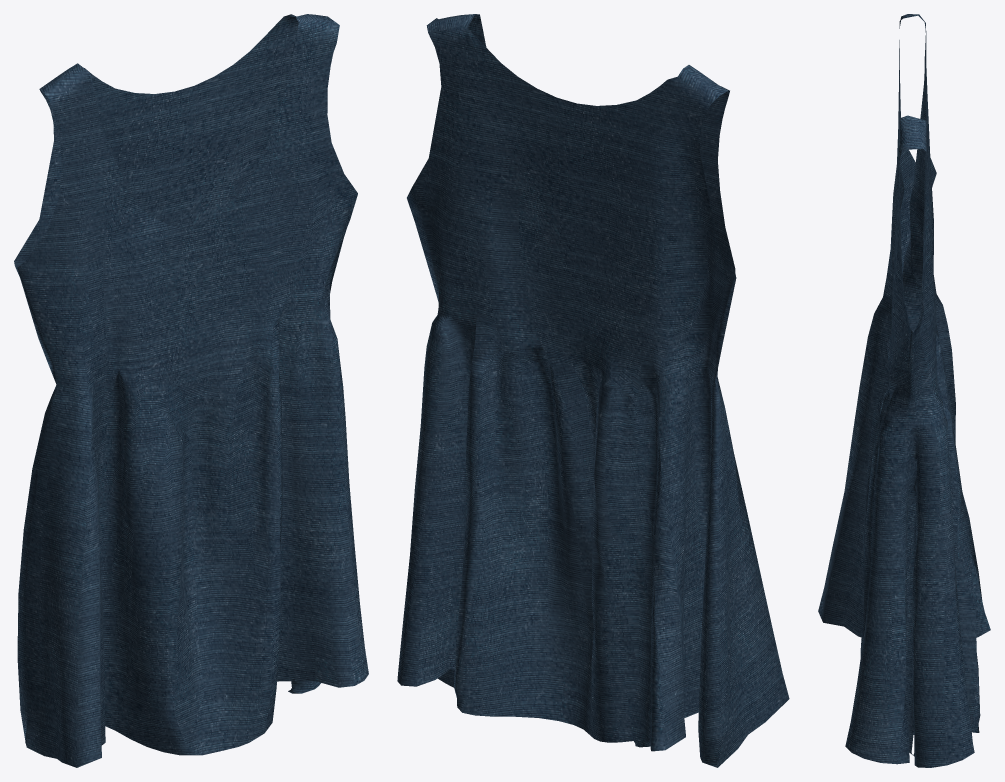
Rendered from yifu06_4.fbx.
The picture shows the model from 3 angles, left to right: view 1: azimuth 30°, elevation 25°; view 2: azimuth 150°, elevation 25°; view 3: azimuth 270°, elevation 25°; orthographic projection. The views are drawn at different scales.
Visible parts, largest first — view 1: yifu06_4; view 2: yifu06_4; view 3: yifu06_4.
Boxes of the visible parts, bbox=[...] form: yifu06_4: bbox=[14, 14, 368, 767]; yifu06_4: bbox=[397, 14, 789, 767]; yifu06_4: bbox=[818, 14, 990, 767].
Bounding box in the file's own units: 41.89 × 83.99 × 19.78.
